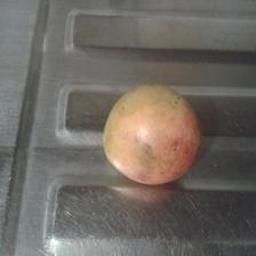Mango Semifresh: (90, 68, 203, 182)
